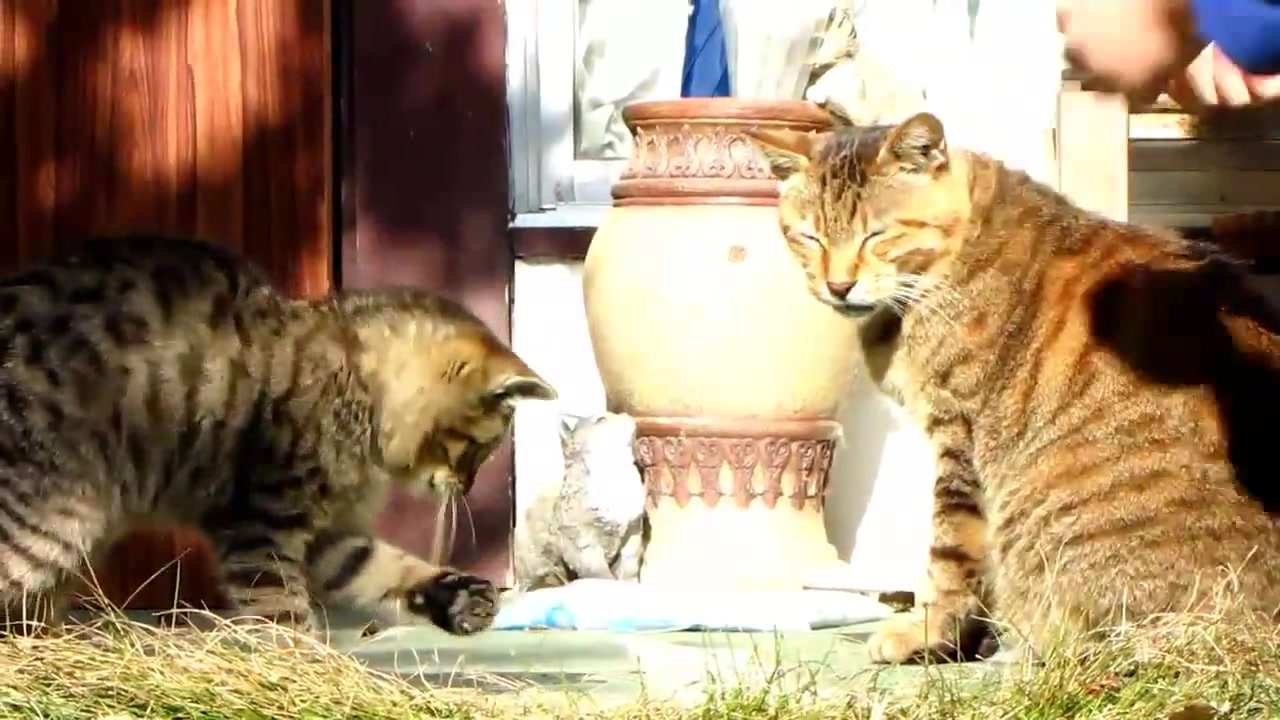cat: (743, 117, 1280, 671), (1, 243, 562, 632)
